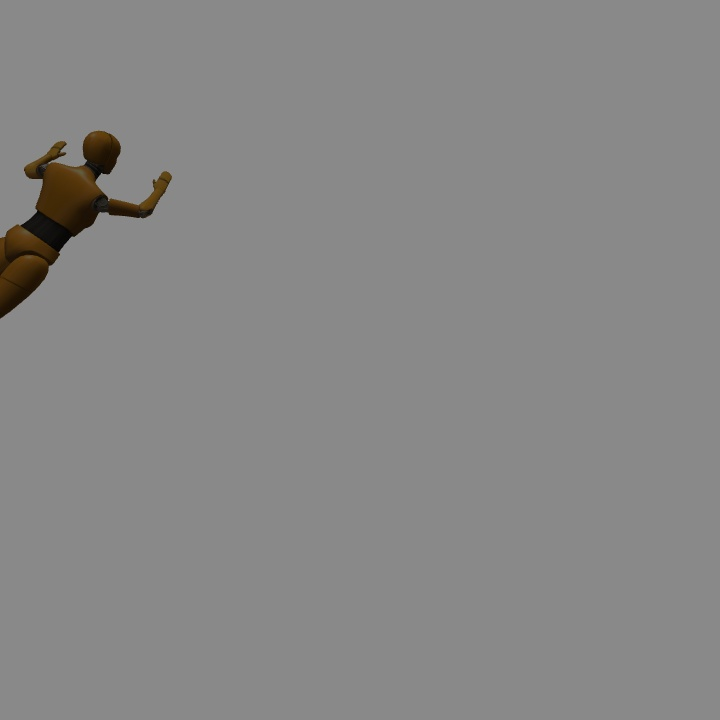victim: (1, 127, 173, 318)
